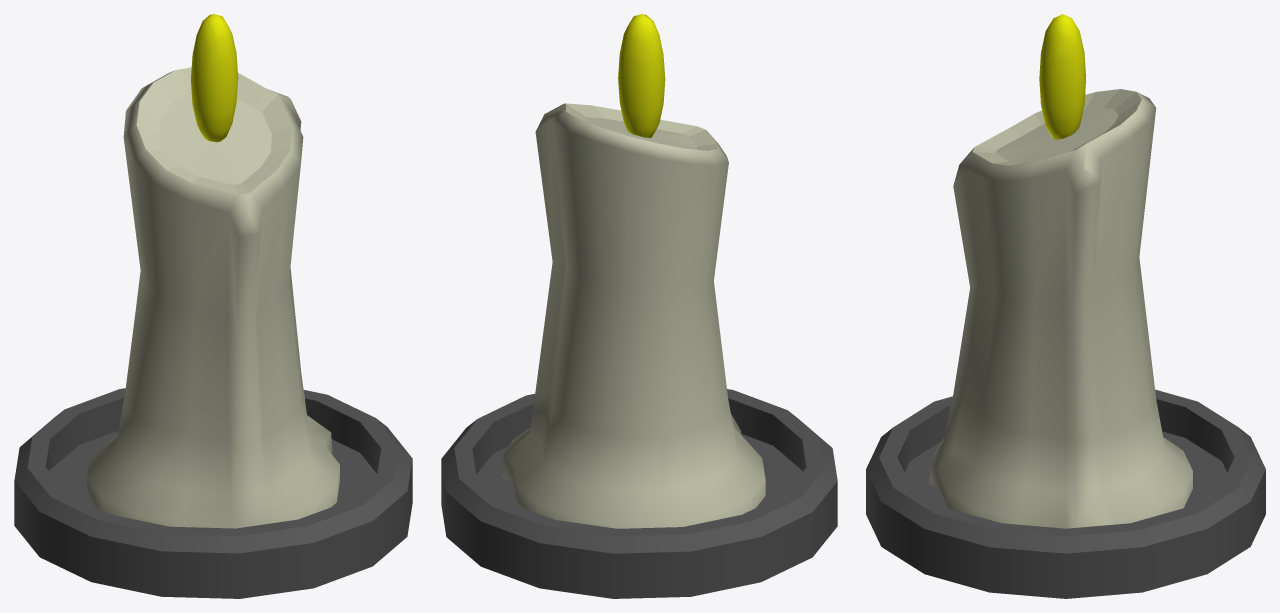
File: SM_Candle_01c.fbx
3 views of the same model, side by side, from view 1: azimuth 30°, elevation 25°; view 2: azimuth 150°, elevation 25°; view 3: azimuth 270°, elevation 25° (orthographic).
Parts seen in each view (by area): view 1: SM_Candle_01a; view 2: SM_Candle_01a; view 3: SM_Candle_01a.
Part boxes in pixels (x1=…): SM_Candle_01a: x1=14, y1=14, x2=412, y2=598; SM_Candle_01a: x1=441, y1=14, x2=837, y2=598; SM_Candle_01a: x1=866, y1=14, x2=1265, y2=598.
Bounding box in the file's own units: 22.76 × 31.41 × 22.76.
